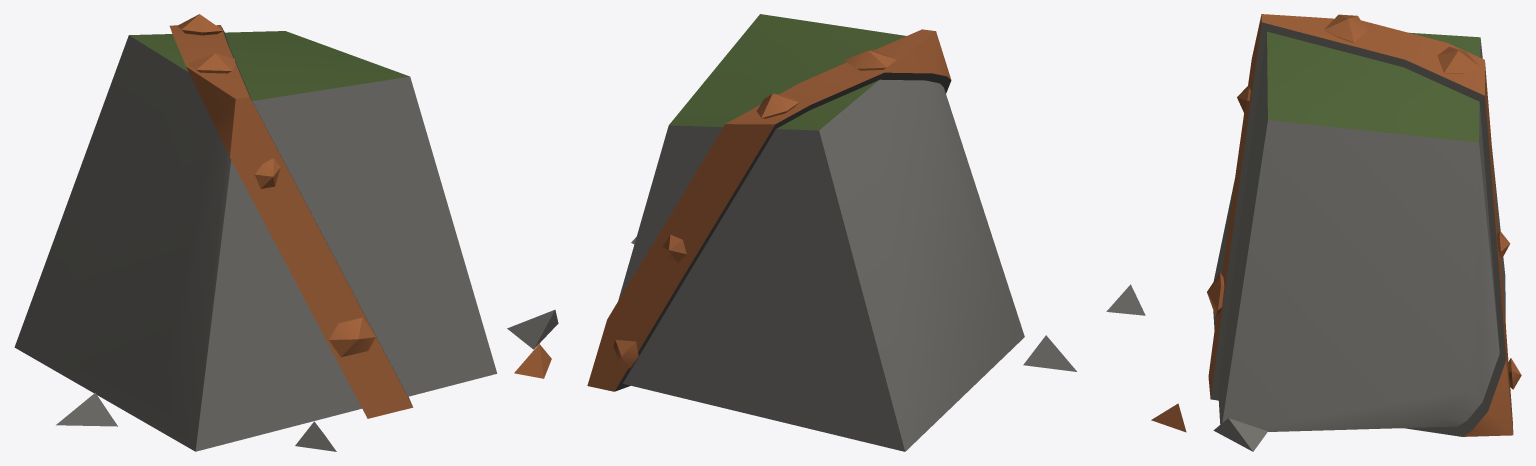
File: MiningBoulderA.fbx
The picture shows the model from 3 angles, left to right: view 1: azimuth 30°, elevation 25°; view 2: azimuth 150°, elevation 25°; view 3: azimuth 270°, elevation 25°; orthographic projection. The views are drawn at different scales.
Parts seen in each view (by area): view 1: MiningBoulderA; view 2: MiningBoulderA; view 3: MiningBoulderA.
Boxes of the visible parts, bbox=[...] form: MiningBoulderA: bbox=[14, 14, 558, 451]; MiningBoulderA: bbox=[587, 14, 1076, 451]; MiningBoulderA: bbox=[1106, 14, 1521, 451].
Bounding box in the file's own units: 1.6 × 1.06 × 1.24.
